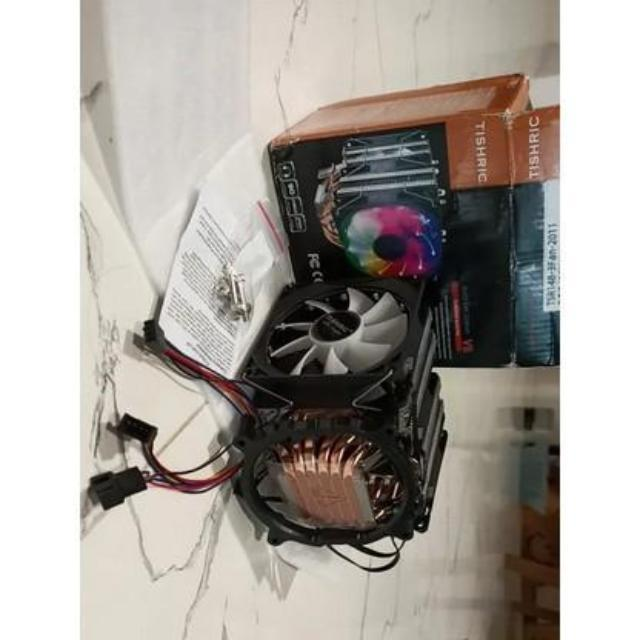CPU_Fan: (248, 276, 450, 568)
